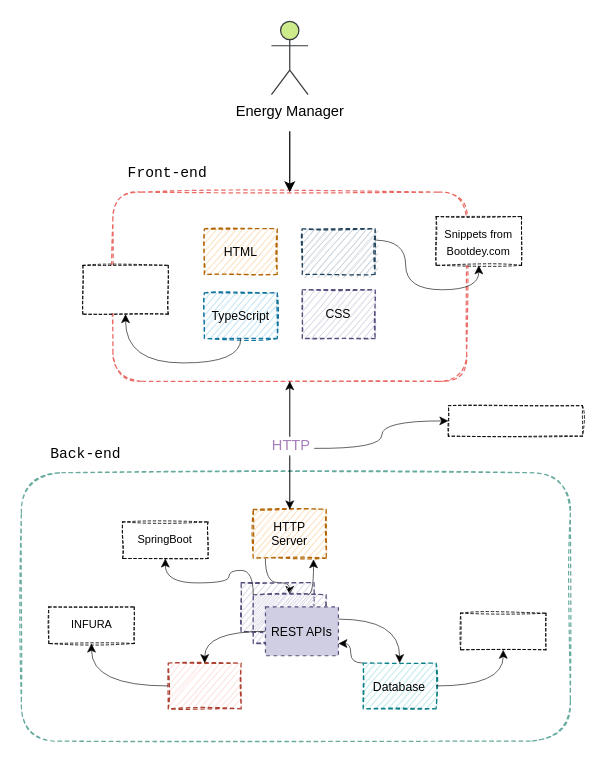
This 604x763 diagram has some shape labels left out. Each missing label, with the centre of its shape:
"Blockchain" goes at pixel 204 685.
"Bootstrap" goes at pixel 338 251.
"Framework Angular CLI" goes at pixel 125 289.
"MySQL" goes at pixel 503 631.
"Test with Postman" goes at pixel 514 420.
